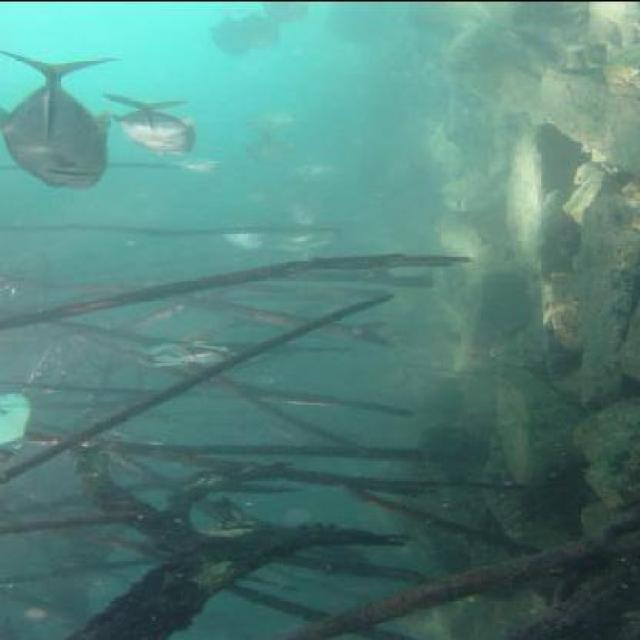Caranx_sexfasciatus_juvenile: (0, 53, 128, 189), (100, 92, 208, 156), (0, 383, 45, 460), (273, 220, 356, 257), (242, 128, 306, 172), (208, 6, 263, 57), (208, 214, 274, 255), (253, 0, 324, 28), (228, 13, 290, 44), (164, 337, 242, 361), (246, 178, 300, 208), (121, 346, 190, 369), (276, 199, 332, 227), (249, 105, 302, 132), (295, 160, 348, 178)
